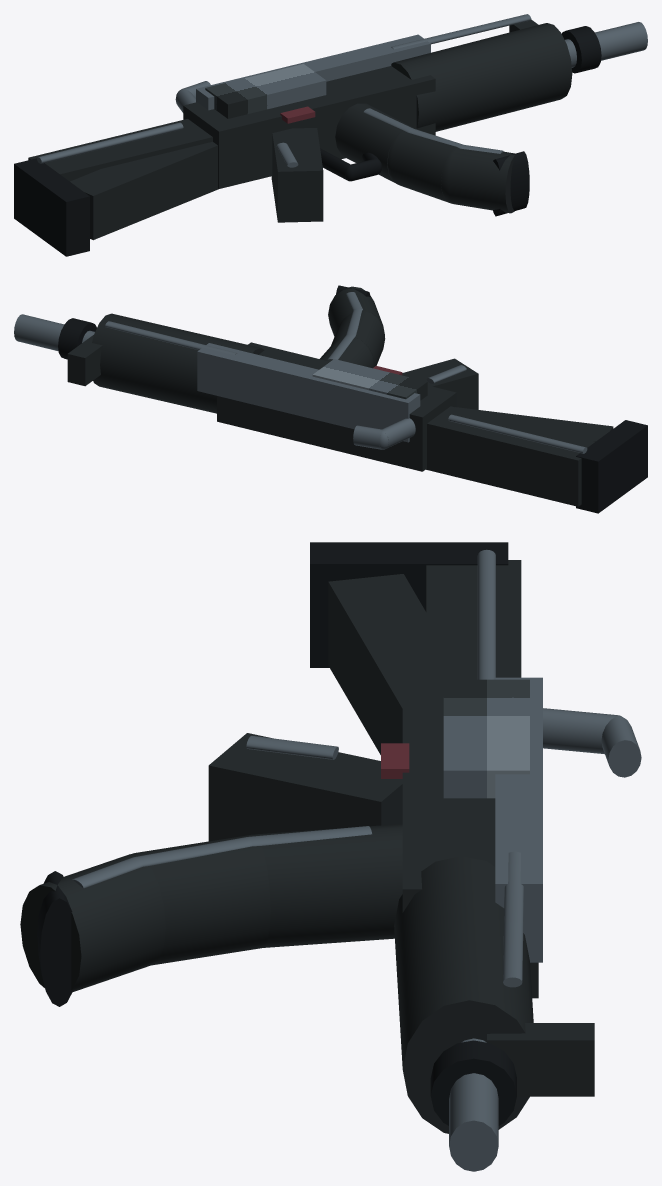
File: CMU3DWorldWeaponSMGMP5Cloud.glb
The picture shows the model from 3 angles, top to bottom: view 1: azimuth 30°, elevation 25°; view 2: azimuth 150°, elevation 25°; view 3: azimuth 270°, elevation 25°; orthographic projection. The views are drawn at different scales.
Visible parts, largest first — view 1: rounded dark foregrip, receiver upper core, sloping fixed stock lower, rubber stock butt, angled pistol grip, exact upper receiver markings, fixed stock upper cheek, curved stick magazine exterior member 3, receiver raised spine, curved stick magazine exterior member 2, curved stick magazine exterior member 1, short exterior barrel (+7 smaller); view 2: fixed stock upper cheek, receiver raised spine, rounded dark foregrip, receiver upper core, rubber stock butt, exact upper receiver markings, angled pistol grip, sloping fixed stock lower, short exterior barrel, front sight post, curved stick magazine exterior member 2, stock bright edge (+6 smaller); view 3: rounded dark foregrip, angled pistol grip, curved stick magazine exterior member 1, sloping fixed stock lower, curved stick magazine exterior member 3, receiver upper core, curved stick magazine exterior member 2, exact upper receiver markings, fixed stock upper cheek, rubber stock butt, receiver raised spine, front sight post (+11 smaller).
Part boxes in pixels (bbox=[...]): rounded dark foregrip: bbox=[391, 23, 572, 131]; receiver upper core: bbox=[183, 66, 435, 188]; sloping fixed stock lower: bbox=[70, 141, 218, 240]; rubber stock butt: bbox=[14, 158, 89, 256]; angled pistol grip: bbox=[271, 128, 323, 222]; exact upper receiver markings: bbox=[205, 64, 326, 118]; fixed stock upper cheek: bbox=[28, 119, 212, 181]; curved stick magazine exterior member 3: bbox=[448, 147, 515, 213]; receiver raised spine: bbox=[196, 34, 430, 110]; curved stick magazine exterior member 2: bbox=[390, 128, 456, 203]; curved stick magazine exterior member 1: bbox=[335, 103, 413, 184]; short exterior barrel: bbox=[565, 22, 647, 67]; fixed stock upper cheek: bbox=[426, 406, 595, 506]; receiver raised spine: bbox=[197, 343, 420, 442]; rounded dark foregrip: bbox=[92, 313, 264, 413]; receiver upper core: bbox=[217, 342, 456, 471]; rubber stock butt: bbox=[576, 420, 647, 513]; exact upper receiver markings: bbox=[312, 359, 427, 400]; angled pistol grip: bbox=[402, 358, 478, 409]; sloping fixed stock lower: bbox=[455, 407, 613, 441]; short exterior barrel: bbox=[14, 314, 94, 351]; front sight post: bbox=[67, 335, 102, 386]; curved stick magazine exterior member 2: bbox=[331, 311, 384, 366]; stock bright edge: bbox=[448, 414, 587, 453]; rounded dark foregrip: bbox=[394, 856, 533, 1133]; angled pistol grip: bbox=[208, 733, 402, 841]; curved stick magazine exterior member 1: bbox=[255, 824, 402, 947]; sloping fixed stock lower: bbox=[328, 574, 426, 754]; curved stick magazine exterior member 3: bbox=[20, 854, 165, 991]; receiver upper core: bbox=[402, 688, 538, 998]; curved stick magazine exterior member 2: bbox=[135, 834, 270, 965]; exact upper receiver markings: bbox=[443, 679, 529, 798]; fixed stock upper cheek: bbox=[426, 560, 521, 688]; rubber stock butt: bbox=[310, 542, 508, 667]; receiver raised spine: bbox=[495, 677, 542, 962]; front sight post: bbox=[487, 1023, 594, 1096].
Size of the model in its own units: 0.9812 by 0.121 by 0.4498.
Materials: 5 (1 with a texture image).
